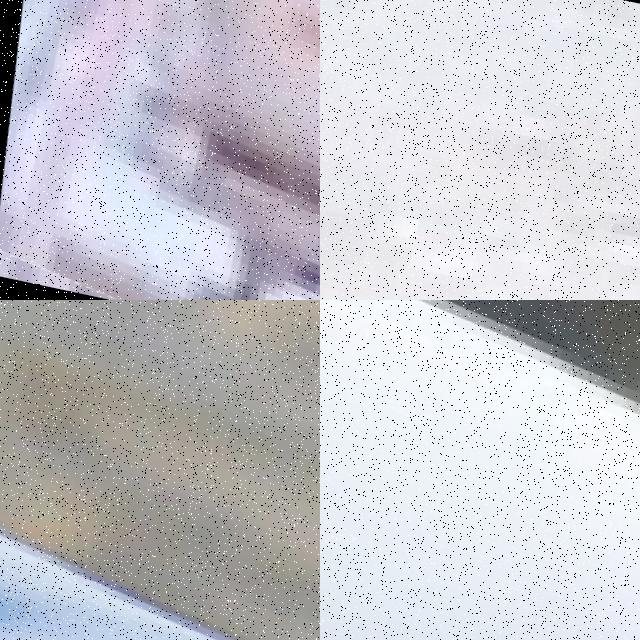0: (320, 300, 640, 640), (0, 0, 320, 300)
drone: (0, 300, 320, 640)
